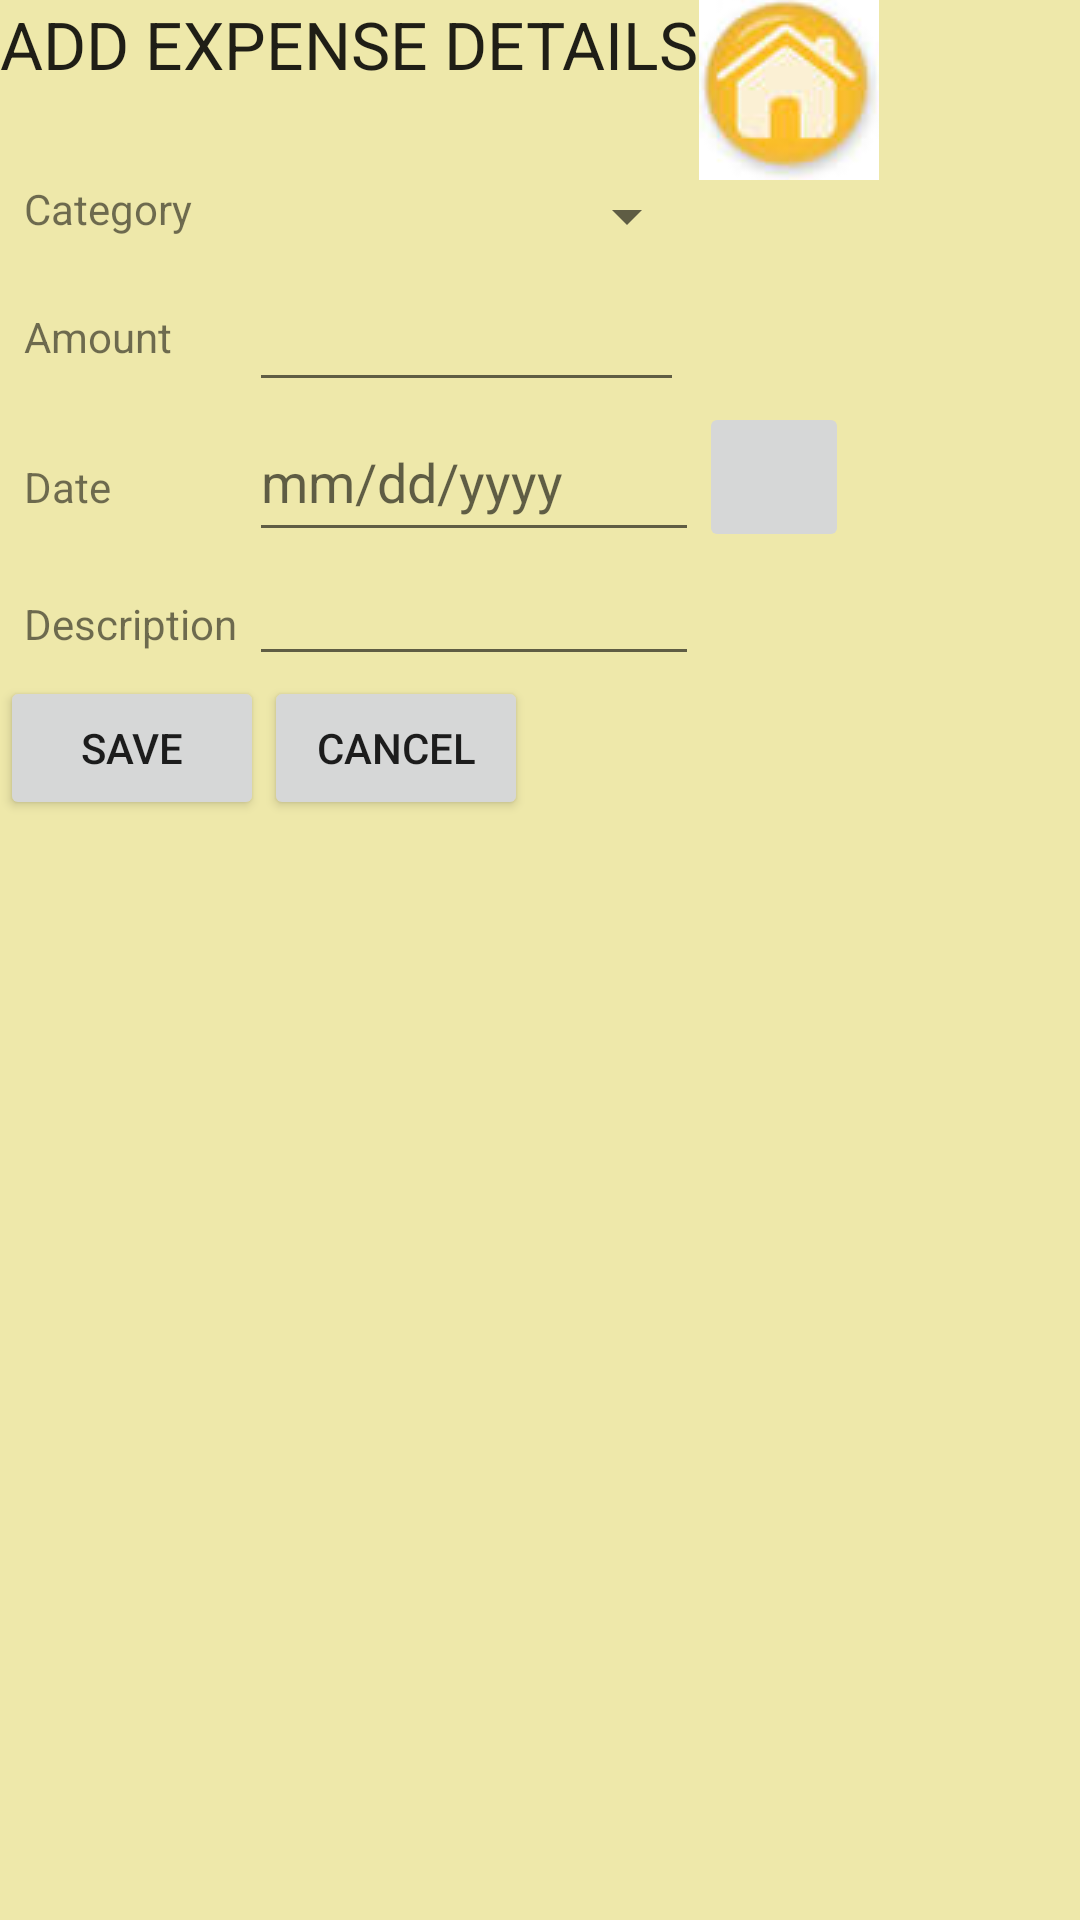

Named icons in this screenshot (1080px x 1920px) and their centers, (x=x, y=y):
home: (x=789, y=90)
